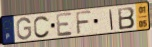B: (117, 6, 136, 31)
C: (33, 15, 51, 39)
E: (55, 11, 74, 38)
F: (75, 10, 93, 36)
G: (16, 17, 33, 41)
I: (108, 9, 114, 31)
